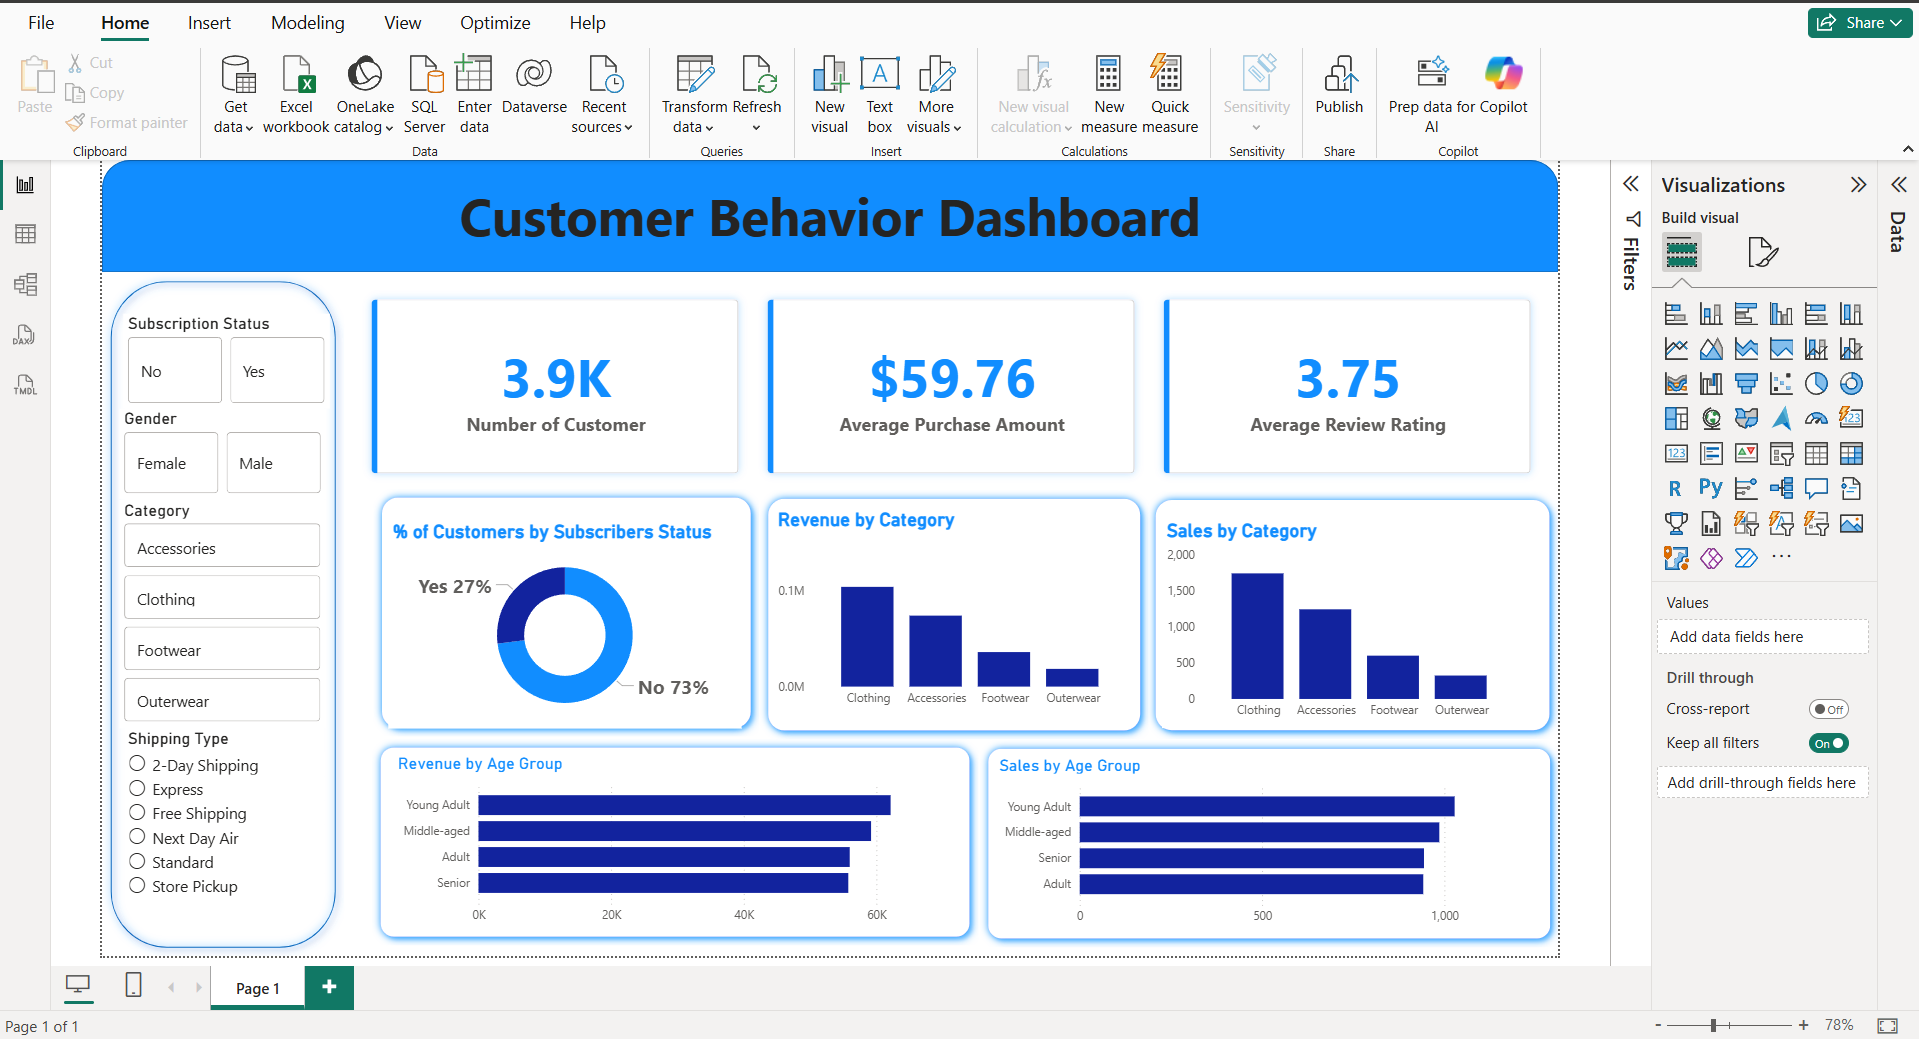

What the dashboard file says about the page in this screenshot:
{"tool":"powerbi","page":{"name":"Page 1","canvas":[1500,820],"ordinal":0},"visuals":[{"type":"cardVisual","fields":{"Data":["public customer.Number of Customer","public customer.Average Purchase Amount","public customer.Average Review Rating"]},"box":[250.3,115.5,1250,235.9],"z":0},{"type":"shape","box":[0,0,1500.3,115.3],"z":1000},{"type":"textbox","box":[0,16,1500.3,84.9],"z":2000},{"type":"shape","box":[279.2,338.6,397.9,255.1],"z":3000},{"type":"donutChart","title":"% of Customers by Subscribers Status","fields":{"Category":["public customer.subscription_status"],"Y":["CountNonNull(public customer.customer_id)"]},"box":[295.3,372.3,364.3,213.4],"z":4000},{"type":"shape","box":[1076.7,341.8,423.6,255.1],"z":5000},{"type":"shape","box":[677.2,340.2,401.2,256.7],"z":6000},{"type":"clusteredColumnChart","title":"Revenue by Category","fields":{"Y":["Sum(public customer.purchase_amount)"],"Category":["public customer.category"]},"box":[691.6,359.4,370.7,213.4],"z":7000},{"type":"clusteredColumnChart","title":"Sales by Category","fields":{"Category":["public customer.category"],"Y":["CountNonNull(public customer.customer_id)"]},"box":[1092,371.5,369.9,214.6],"z":8000},{"type":"shape","box":[0,115.3,249.8,704.5],"z":9000},{"type":"advancedSlicerVisual","fields":{"Values":["public customer.subscription_status"]},"box":[22.4,158.5,213,97.7],"z":10000},{"type":"advancedSlicerVisual","fields":{"Values":["public customer.gender"]},"box":[17.6,256.2,213,92.9],"z":11000},{"type":"advancedSlicerVisual","fields":{"Values":["public customer.category"]},"box":[17.6,350.7,213,235.4],"z":12000},{"type":"listSlicer","fields":{"Values":["public customer.shipping_type"]},"box":[22.5,585.7,213.4,234.3],"z":13000},{"type":"shape","box":[903.4,596.9,596.9,213.4],"z":14000},{"type":"shape","box":[278.6,595.6,624.5,213],"z":15000},{"type":"clusteredBarChart","title":"Revenue by Age Group","fields":{"Y":["Sum(public customer.purchase_amount)"],"Category":["public customer.age_group"]},"box":[299.4,611.7,581.2,184.1],"z":16000},{"type":"clusteredBarChart","title":"Sales by Age Group ","fields":{"Y":["CountNonNull(public customer.customer_id)"],"Category":["public customer.age_group"]},"box":[919.1,613.3,558.8,184.1],"z":17000}]}

Visuals, with their boxes on the page's 1500x820 design canvas (x1, y1, x2, y2). These are canvas units, not pixel positions in the 1919x1039 screenshot, which may show the page scaled, cropped or inside an application window:
cardVisual - public customer.Number of Customer x public customer.Average Purchase Amount: 250:116:1500:351
shape: 0:0:1500:115
textbox: 0:16:1500:101
shape: 279:339:677:594
"% of Customers by Subscribers Status" donutChart: 295:372:660:586
shape: 1077:342:1500:597
shape: 677:340:1078:597
"Revenue by Category" clusteredColumnChart: 692:359:1062:573
"Sales by Category" clusteredColumnChart: 1092:372:1462:586
shape: 0:115:250:820
advancedSlicerVisual - public customer.subscription_status: 22:158:235:256
advancedSlicerVisual - public customer.gender: 18:256:231:349
advancedSlicerVisual - public customer.category: 18:351:231:586
listSlicer - public customer.shipping_type: 22:586:236:820
shape: 903:597:1500:810
shape: 279:596:903:809
"Revenue by Age Group" clusteredBarChart: 299:612:881:796
"Sales by Age Group " clusteredBarChart: 919:613:1478:797
